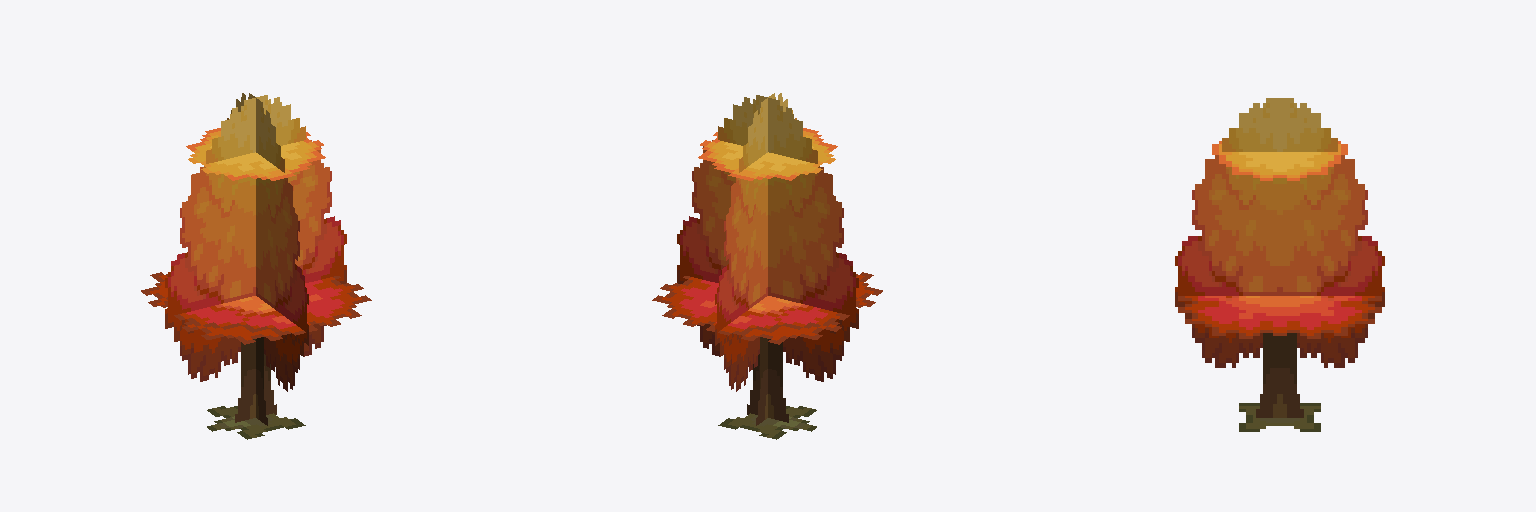
3 renders of one model, left to right at view 1: azimuth 30°, elevation 25°; view 2: azimuth 150°, elevation 25°; view 3: azimuth 270°, elevation 25°, orthographic.
Visible parts, largest first — view 1: map; view 2: map; view 3: map.
Boxes of the visible parts, box(x1,y1,x2,y2) form: map: box(141, 93, 371, 439); map: box(652, 93, 882, 439); map: box(1175, 98, 1384, 431).
Bounding box in the file's own units: 2 × 3.32 × 2.
4 materials, 4 textured.